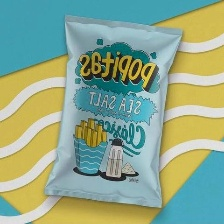snack: (39, 9, 188, 213)
